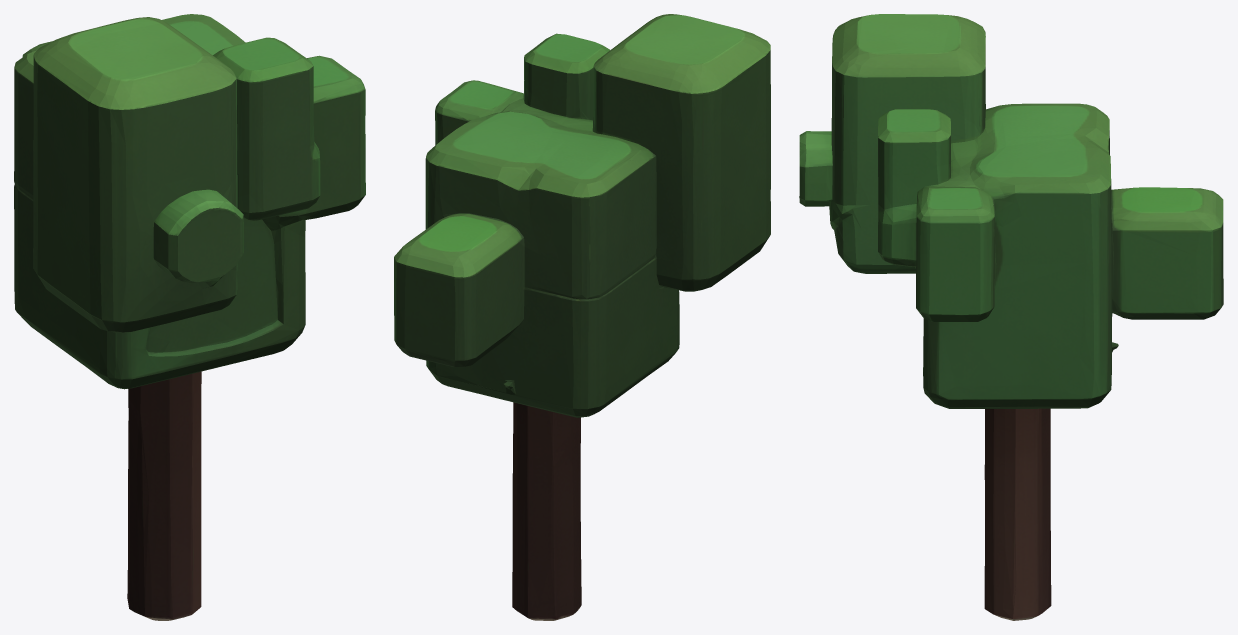
File: forest-tree.glb
The picture shows the model from 3 angles, left to right: view 1: azimuth 30°, elevation 25°; view 2: azimuth 150°, elevation 25°; view 3: azimuth 270°, elevation 25°; orthographic projection. The views are drawn at different scales.
Parts seen in each view (by area): view 1: world; view 2: world; view 3: world.
Boxes of the visible parts, x1=… form: world: x1=14, y1=14, x2=365, y2=620; world: x1=394, y1=14, x2=770, y2=620; world: x1=799, y1=14, x2=1223, y2=620.
Bounding box in the file's own units: 0.5125 × 0.9996 × 0.7048.
1 material, 1 textured.
